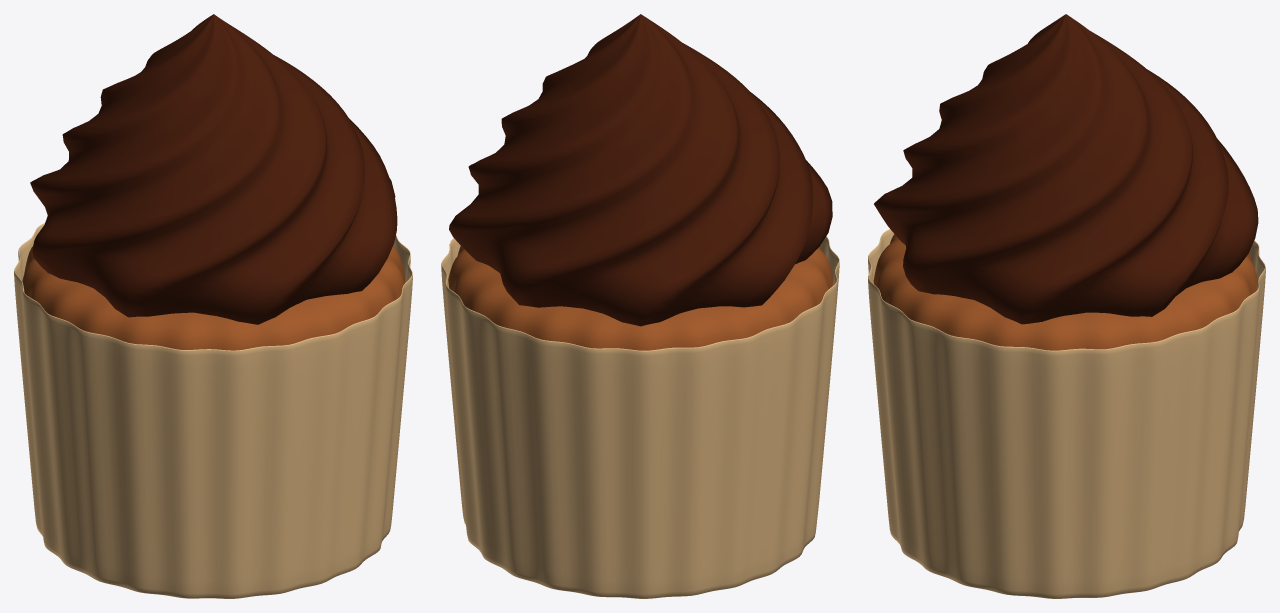
Rendered from cupcake_base.fbx.
3 renders of one model, left to right at view 1: azimuth 30°, elevation 25°; view 2: azimuth 150°, elevation 25°; view 3: azimuth 270°, elevation 25°, orthographic.
Parts seen in each view (by area): view 1: Cake.009; view 2: Cake.009; view 3: Cake.009.
Part boxes in pixels (box(x1,y1,x2,y2)): Cake.009: box(14, 14, 412, 598); Cake.009: box(441, 14, 839, 598); Cake.009: box(868, 14, 1265, 598).
Size of the model in its own units: 225 by 319 by 224.
